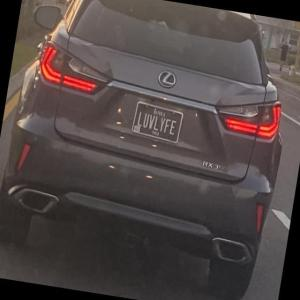Plate: (131, 100, 184, 145)
